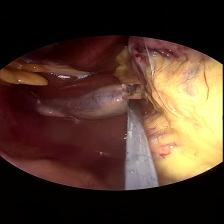Grasper: (122, 83, 141, 98)
